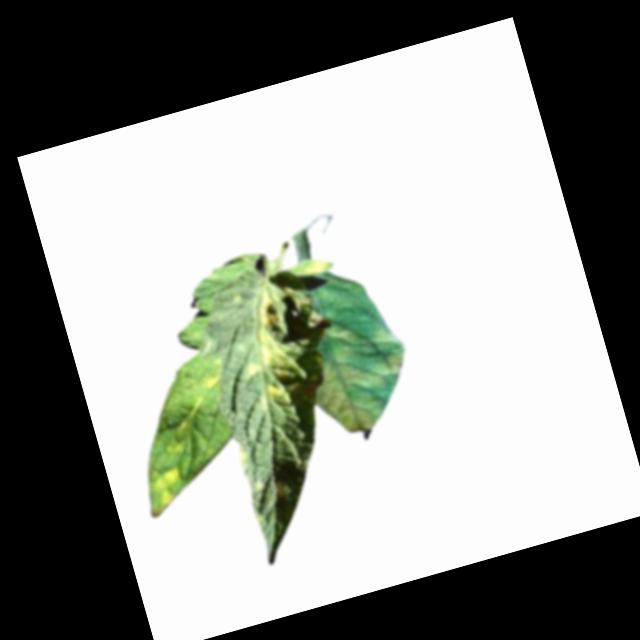Leaf_Mold: (298, 316, 422, 444), (225, 283, 316, 418), (148, 466, 187, 507)
